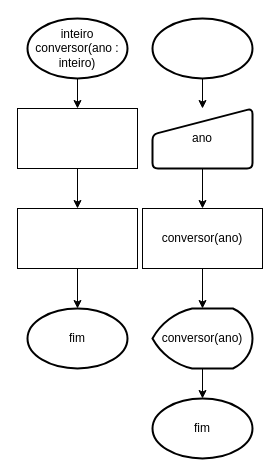
Image size: 280x476. Some labels were removed from this diagram. The centre of each missing label's shape, as x and y in pixels:
"ano <- ano * 12" goes at (x=77, y=138).
"inicio" goes at (x=202, y=48).
"return ano" goes at (x=77, y=238).
